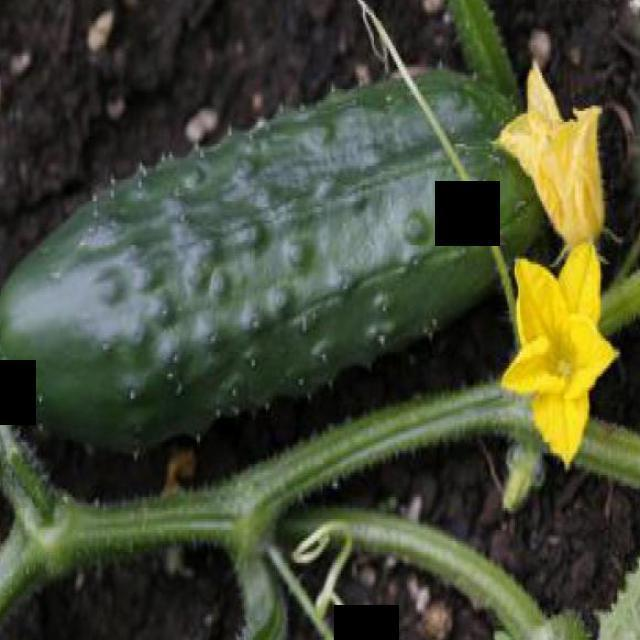cucumber: (0, 67, 597, 459)
